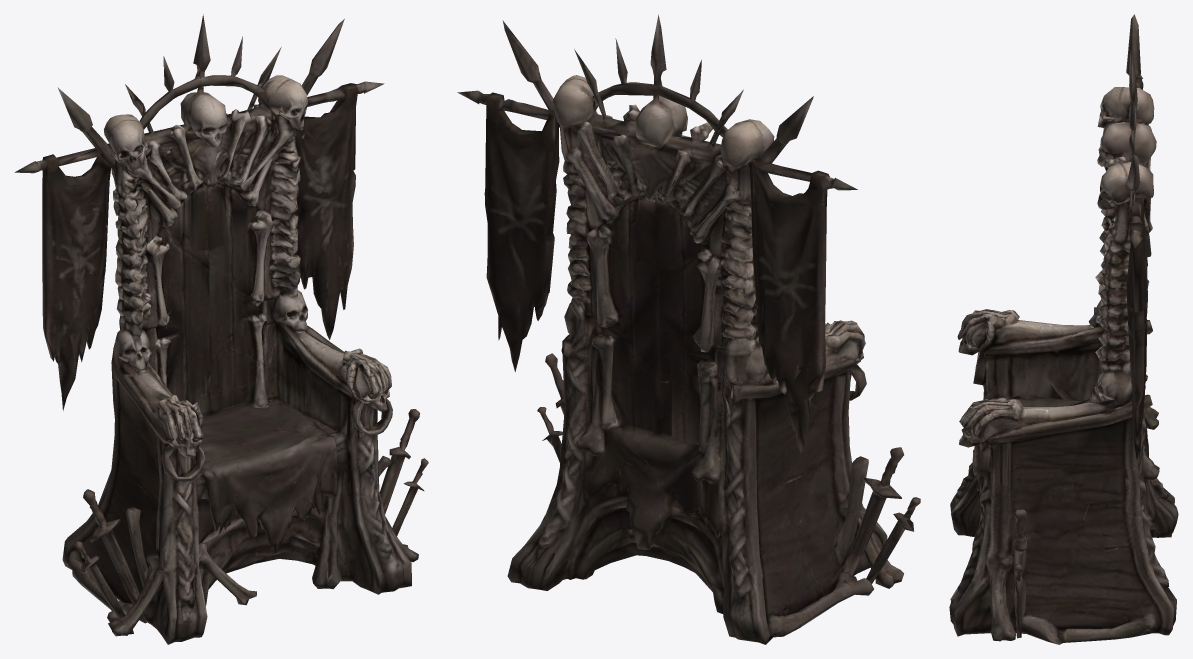
The model's file is throne_dec.glb.
3 views of the same model, side by side, from view 1: azimuth 30°, elevation 25°; view 2: azimuth 150°, elevation 25°; view 3: azimuth 270°, elevation 25° (orthographic). The views are drawn at different scales.
Parts seen in each view (by area): view 1: mesh_node; view 2: mesh_node; view 3: mesh_node.
Boxes of the visible parts, box(x1,y1,x2,y2) form: mesh_node: box(14, 14, 428, 644); mesh_node: box(457, 14, 920, 644); mesh_node: box(949, 14, 1178, 644).
Bounding box in the file's own units: 1.37 × 1.9 × 0.7394.
Materials: 1 (1 with a texture image).
